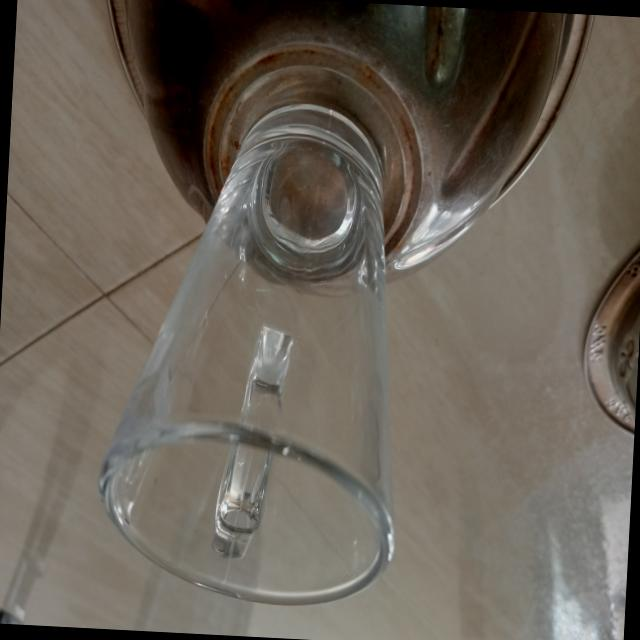glass-VX4N: (87, 90, 420, 609)
